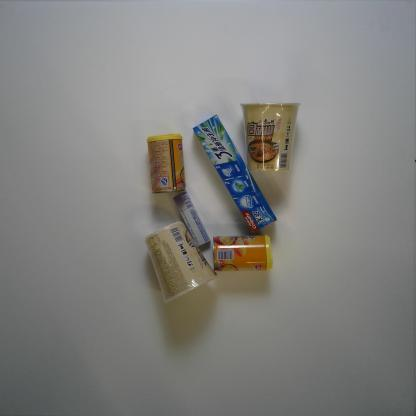Candy: (173, 191, 211, 248)
Canned Food: (146, 133, 187, 194), (212, 234, 274, 272)
Instant Noodles: (144, 221, 219, 304), (240, 102, 302, 173)
Personal Hygiene: (192, 113, 278, 234)
